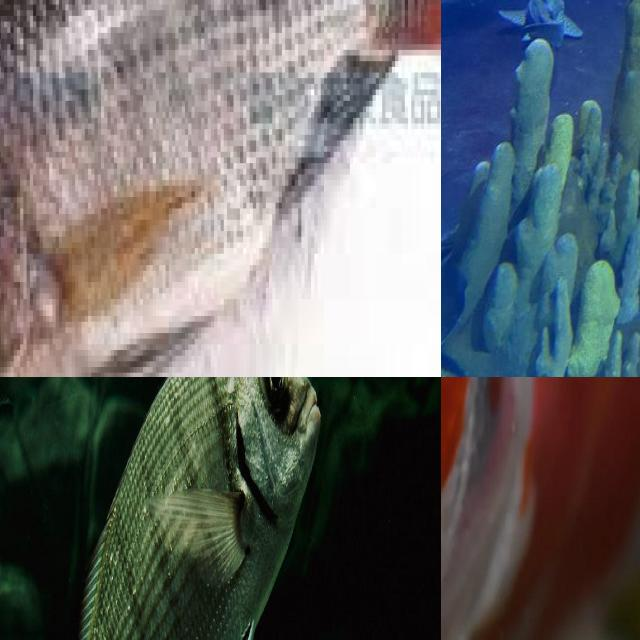fish: (0, 0, 441, 377), (91, 377, 441, 640), (441, 377, 536, 640)
